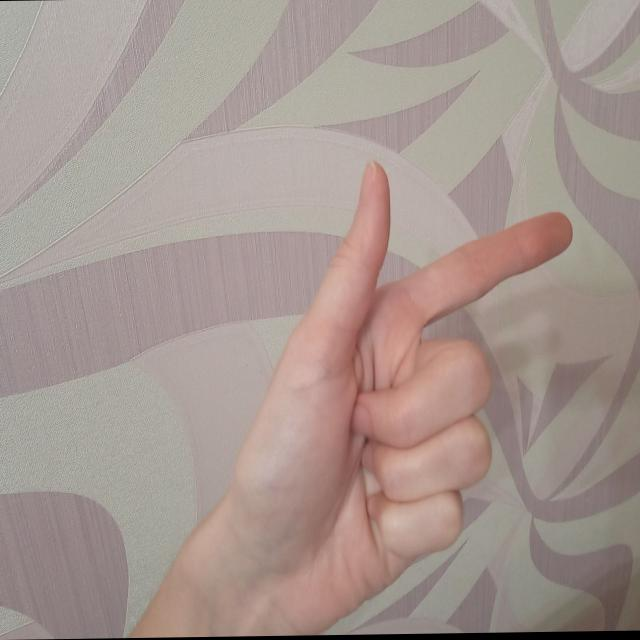g: (226, 134, 562, 604)
